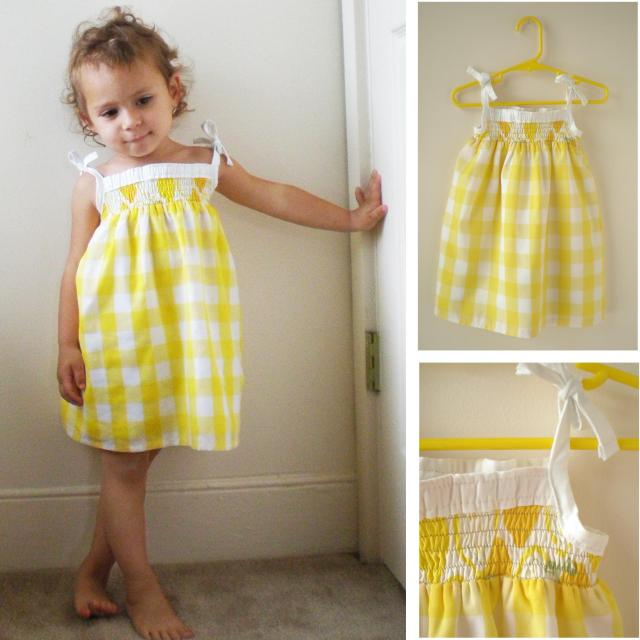Dress: (442, 70, 624, 336)
